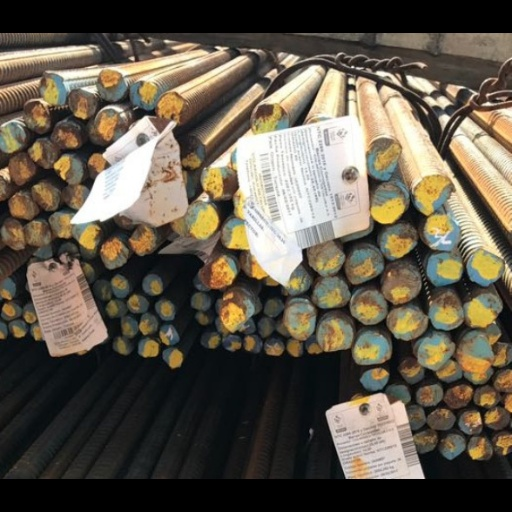dipstick: (411, 157, 457, 211), (381, 262, 424, 312), (468, 246, 509, 297), (364, 117, 402, 171), (464, 294, 505, 343), (456, 341, 496, 391), (344, 241, 384, 291), (371, 172, 410, 222), (315, 319, 356, 366), (412, 344, 455, 387), (280, 303, 316, 354), (377, 220, 419, 263), (386, 312, 430, 353), (154, 62, 192, 109), (250, 75, 292, 116), (349, 294, 389, 337), (91, 81, 128, 127), (186, 191, 221, 239), (353, 340, 393, 382), (424, 250, 464, 291), (429, 296, 464, 342), (311, 278, 352, 317), (422, 208, 458, 252), (202, 150, 239, 192), (94, 38, 131, 78), (37, 41, 70, 83), (219, 296, 252, 338), (175, 116, 207, 159), (309, 239, 344, 278), (197, 259, 236, 293), (24, 117, 57, 156), (219, 212, 251, 252), (128, 50, 160, 89), (100, 229, 128, 272), (23, 75, 53, 115), (126, 218, 156, 257), (8, 136, 38, 175), (67, 60, 97, 98), (0, 100, 27, 141), (438, 457, 468, 493), (49, 99, 81, 132), (6, 181, 37, 214), (53, 137, 83, 171), (239, 248, 268, 283), (32, 170, 60, 206), (443, 401, 474, 433), (22, 211, 51, 245), (282, 266, 310, 301), (71, 216, 104, 245), (466, 459, 494, 493), (0, 215, 26, 251), (397, 370, 426, 402), (47, 202, 74, 236), (410, 454, 440, 484), (60, 172, 88, 204), (356, 384, 389, 411), (485, 427, 512, 458), (427, 431, 455, 460), (416, 402, 444, 430), (458, 432, 483, 463), (86, 135, 111, 166), (491, 455, 512, 490), (475, 403, 502, 429), (437, 376, 463, 402), (137, 349, 162, 374), (110, 274, 130, 305), (189, 314, 217, 336), (153, 305, 176, 331), (161, 361, 184, 387), (222, 344, 245, 369), (141, 275, 162, 302), (260, 302, 283, 326), (189, 294, 213, 317), (159, 333, 180, 359), (138, 321, 159, 347), (19, 308, 39, 335), (263, 347, 285, 371), (197, 341, 221, 363), (105, 304, 129, 326), (495, 384, 512, 415), (494, 354, 512, 383), (303, 344, 323, 370), (0, 281, 19, 307), (92, 282, 112, 306), (27, 331, 46, 356), (285, 350, 303, 376), (126, 300, 148, 321), (0, 308, 21, 330), (112, 346, 132, 368), (257, 325, 276, 348), (7, 327, 26, 350), (120, 323, 137, 348), (244, 344, 262, 367)
